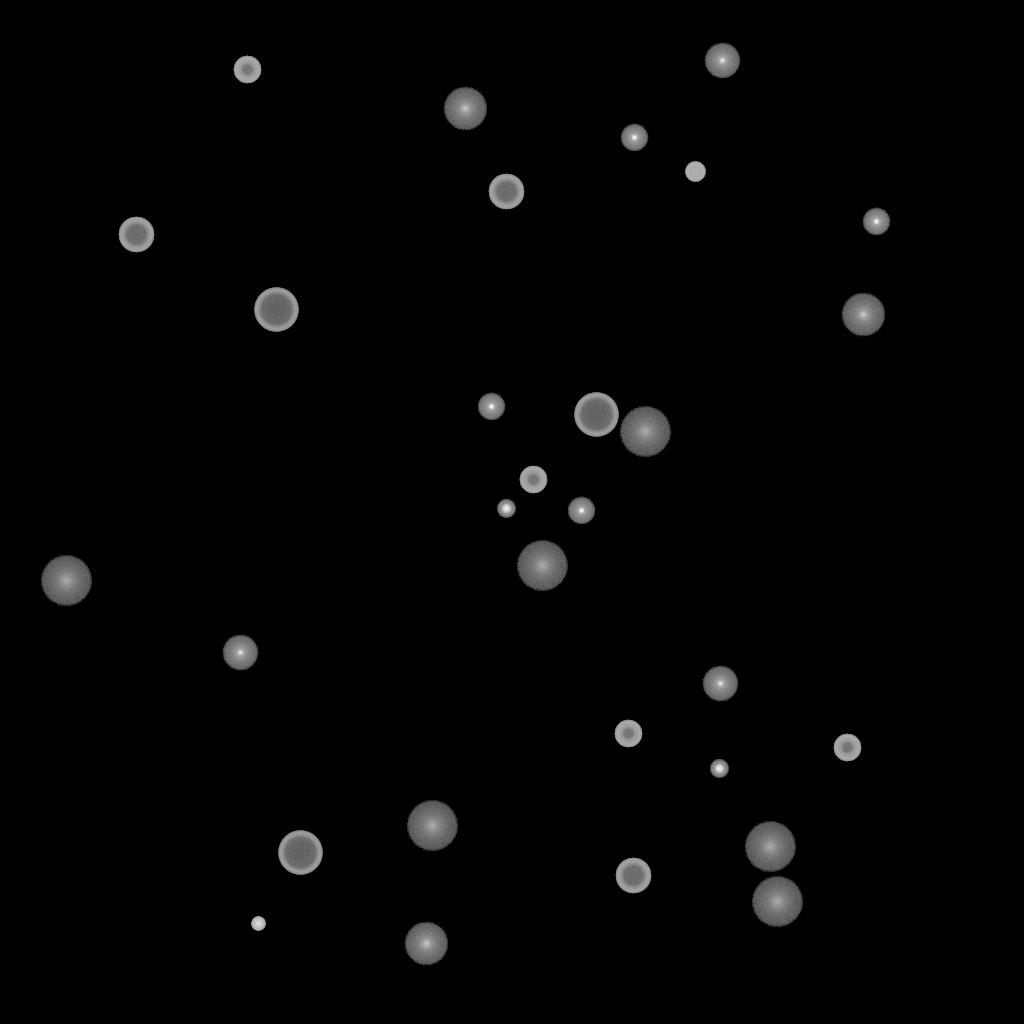depth:-10: (862, 208, 890, 236), (477, 393, 505, 421), (567, 497, 595, 525), (620, 124, 648, 152)
depth:-20: (497, 500, 515, 518), (710, 760, 728, 778)
depth:-30: (251, 917, 265, 931)
depth:-40: (685, 162, 705, 182)
depth:-50: (614, 720, 642, 748), (519, 466, 547, 494), (833, 734, 861, 762), (233, 56, 261, 84)
depth:-60: (118, 217, 154, 253), (615, 858, 651, 894), (488, 174, 524, 210)
depth:-70: (574, 393, 618, 437), (254, 288, 298, 332), (278, 831, 322, 875)
depth:0: (702, 666, 738, 702), (704, 43, 740, 79), (222, 635, 258, 671)
depth:10: (841, 293, 885, 337), (443, 87, 487, 131), (404, 922, 448, 966)
depth:20: (40, 556, 92, 606), (406, 801, 458, 851), (619, 407, 671, 457), (751, 877, 803, 927), (744, 822, 796, 872), (516, 541, 568, 591)
